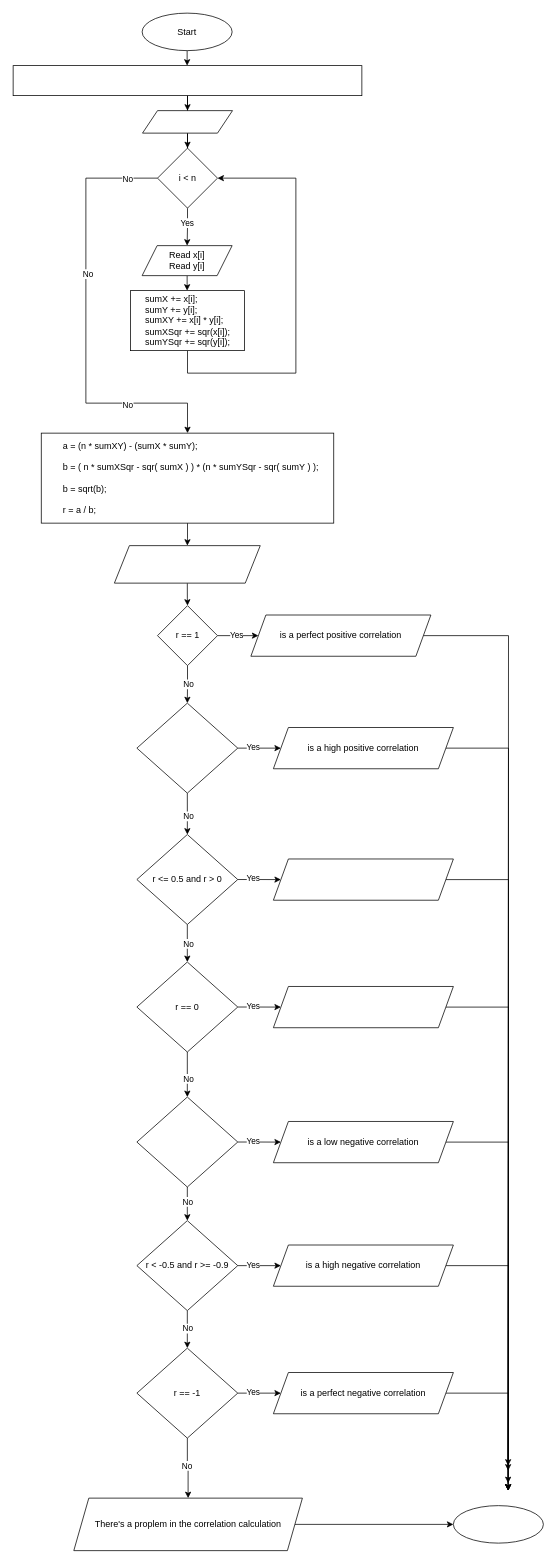
The diagram is 557 pixels wide and 1564 high, and some of its shapes have lost their labels. The centre of each missing label's shape, as x and y in pixels:
End: (x=498, y=1524)
i,n, sumX, sumY, sumXY, sumXSqr, sumYSqr, r, a, b = 0 x, y = [ ]: (x=187, y=80)
is a low positive correlation: (x=363, y=879)
no correlation: (x=363, y=1007)
r < 0 and r >= -0.5: (x=187, y=1141)
r <= 0.9 and r > 0.5: (x=187, y=747)
Read n: (x=187, y=121)
The correlation is { r }: (x=187, y=564)
